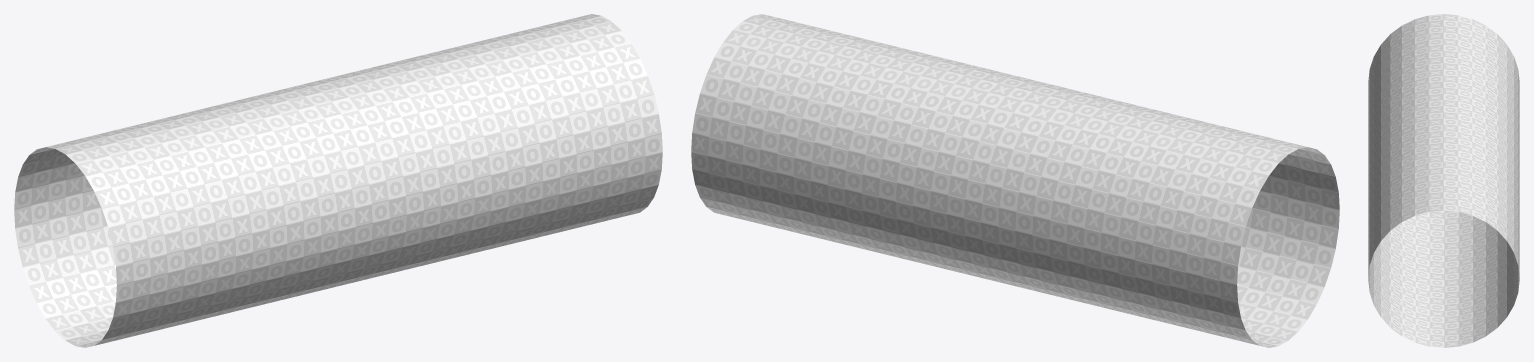
File: background.obj
The picture shows the model from 3 angles, left to right: view 1: azimuth 30°, elevation 25°; view 2: azimuth 150°, elevation 25°; view 3: azimuth 270°, elevation 25°; orthographic projection. The views are drawn at different scales.
Visible parts, largest first — view 1: Icosphere; view 2: Icosphere; view 3: Icosphere.
Boxes of the visible parts, bbox=[...] form: Icosphere: bbox=[14, 14, 662, 347]; Icosphere: bbox=[691, 14, 1339, 347]; Icosphere: bbox=[1368, 14, 1519, 347].
Size of the model in its own units: 6.14 by 2 by 2.
